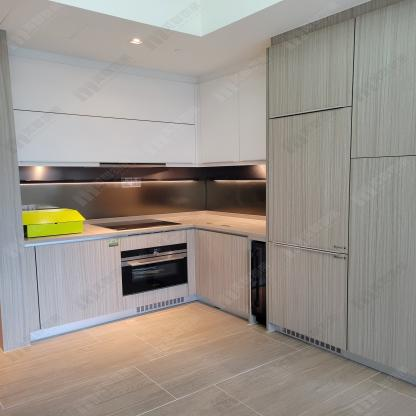Exhaust Hood: (84, 163, 166, 168)
Oven: (120, 243, 188, 297)
Stove: (89, 219, 185, 231)
